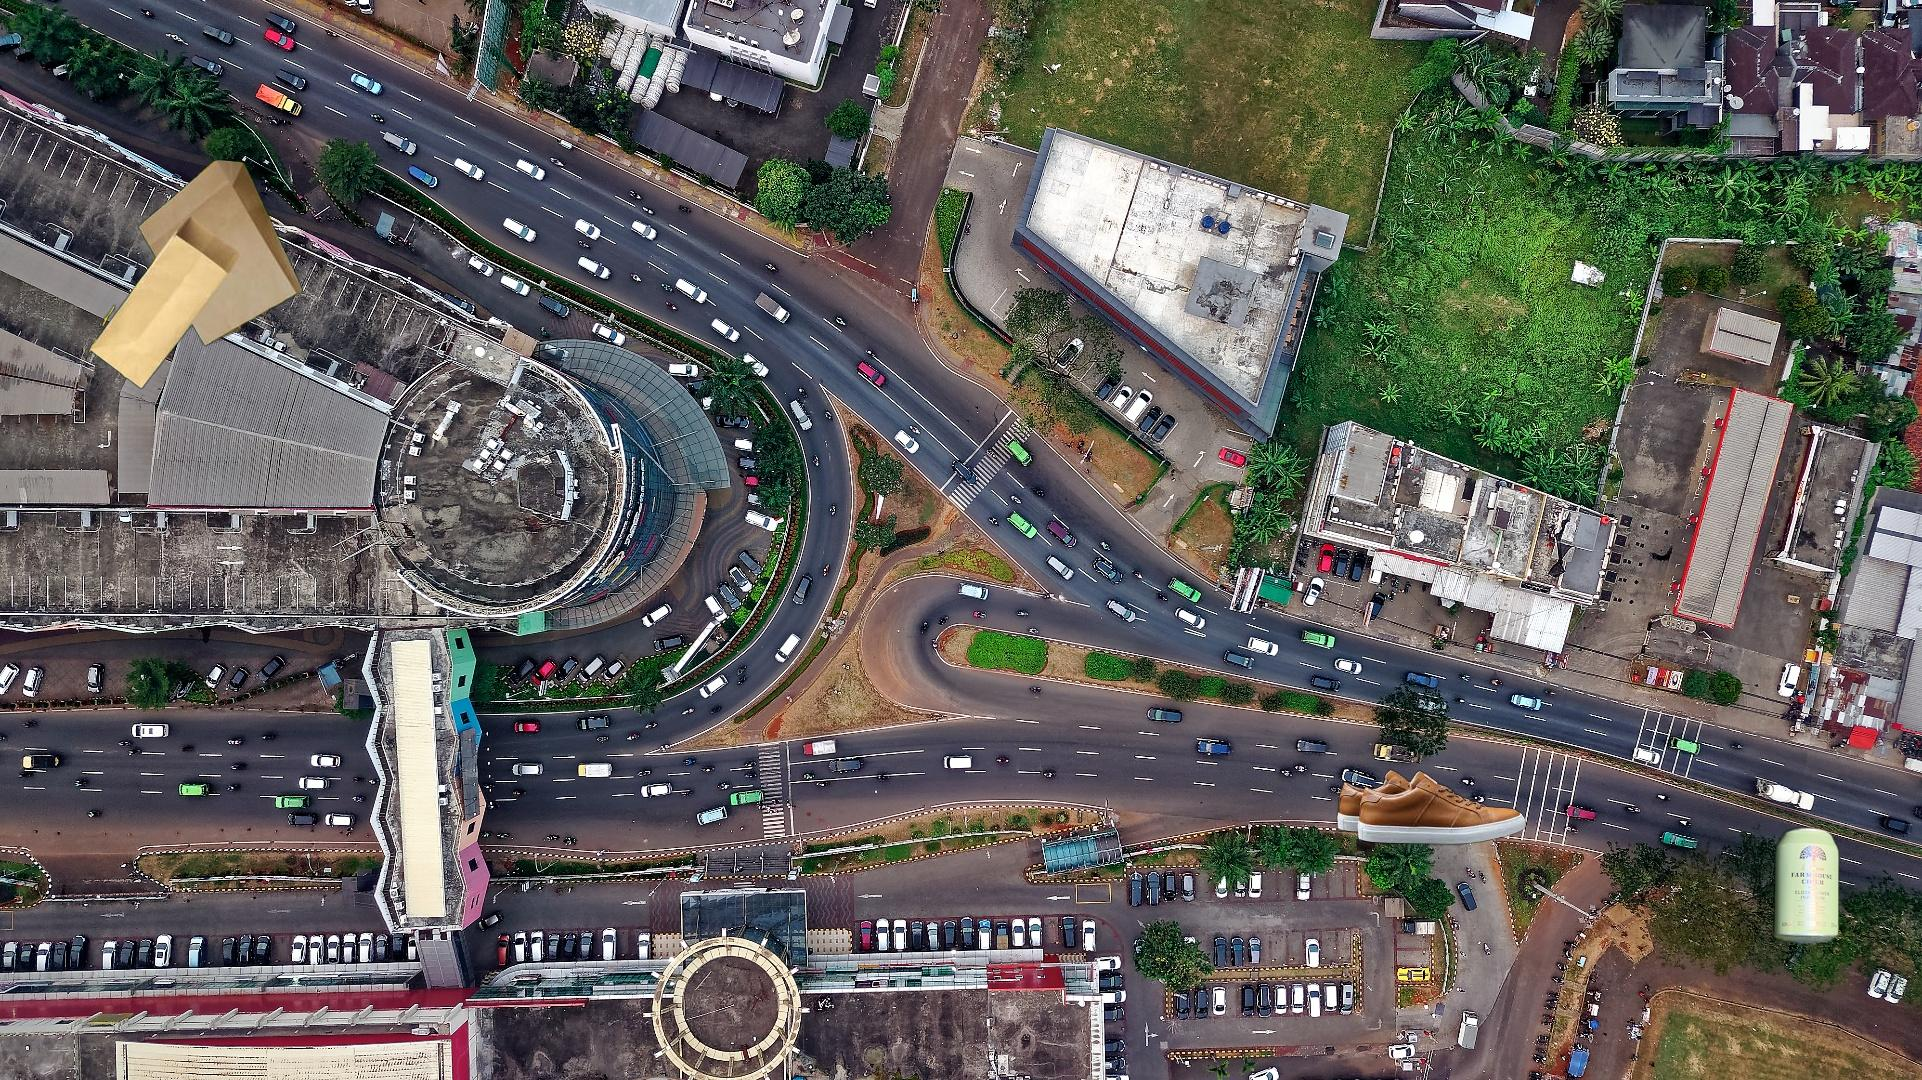battery: (616, 1073, 818, 1080)
metal-cans: (1768, 576, 1922, 1080)
paper-bag: (84, 158, 304, 392)
shoes: (1335, 764, 1529, 848)
